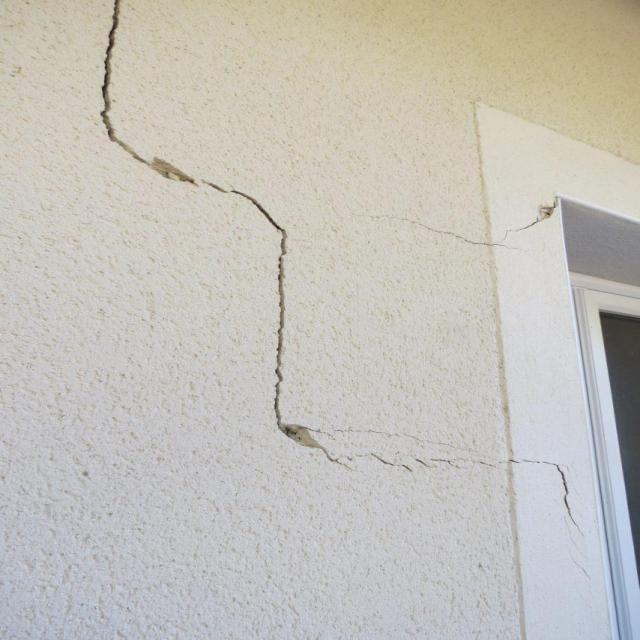crack: (101, 3, 417, 477), (426, 454, 585, 537), (360, 196, 561, 247)
